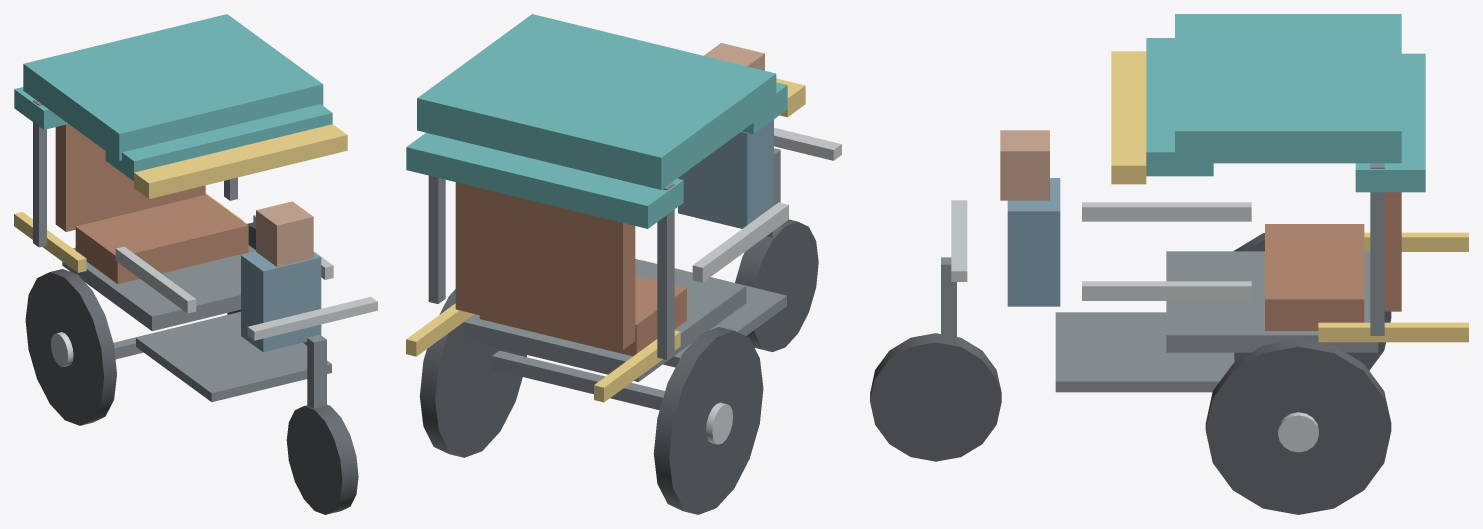
The model's file is dhaka-rickshaw.gltf.
3 renders of one model, left to right at view 1: azimuth 30°, elevation 25°; view 2: azimuth 150°, elevation 25°; view 3: azimuth 270°, elevation 25°, orthographic. The views are drawn at different scales.
Visible parts, largest first — view 1: canopy-summit, spoked-rear-wheel--1, passenger-cushion, leg-space, backrest, canopy-trim, passenger-platform, front-wheel, driver-torso, canopy-front, driver-head, handlebar (+7 smaller); view 2: canopy-summit, backrest, spoked-rear-wheel--1, canopy-rear, spoked-rear-wheel-1, passenger-platform, driver-torso, front-wheel, rear-axle, passenger-cushion, canopy-side-post--1, side-handhold--1 (+9 smaller); view 3: canopy-summit, spoked-rear-wheel-1, front-wheel, leg-space, passenger-cushion, passenger-platform, driver-torso, canopy-trim, canopy-rear, canopy-front, driver-head, side-handhold--1 (+9 smaller).
Part boxes in pixels (bbox=[...]): canopy-summit: bbox=[23, 14, 323, 160]; spoked-rear-wheel--1: bbox=[25, 269, 116, 425]; passenger-cushion: bbox=[75, 194, 248, 283]; leg-space: bbox=[136, 312, 331, 401]; backrest: bbox=[55, 124, 205, 231]; canopy-trim: bbox=[134, 124, 347, 198]; passenger-platform: bbox=[62, 245, 255, 331]; front-wheel: bbox=[286, 404, 358, 514]; driver-torso: bbox=[241, 251, 321, 352]; canopy-front: bbox=[105, 104, 332, 180]; driver-head: bbox=[256, 201, 313, 266]; handlebar: bbox=[247, 296, 377, 340]; canopy-summit: bbox=[417, 14, 776, 189]; backrest: bbox=[455, 182, 635, 349]; spoked-rear-wheel--1: bbox=[653, 327, 763, 514]; canopy-rear: bbox=[406, 132, 683, 228]; spoked-rear-wheel-1: bbox=[419, 289, 526, 457]; passenger-platform: bbox=[463, 259, 746, 381]; driver-torso: bbox=[678, 119, 773, 228]; front-wheel: bbox=[735, 219, 818, 351]; rear-axle: bbox=[492, 350, 664, 410]; passenger-cushion: bbox=[479, 275, 686, 356]; canopy-side-post--1: bbox=[657, 183, 674, 359]; side-handhold--1: bbox=[692, 202, 788, 282]; canopy-summit: bbox=[1175, 14, 1401, 163]; spoked-rear-wheel-1: bbox=[1205, 339, 1391, 514]; front-wheel: bbox=[870, 333, 1001, 461]; leg-space: bbox=[1055, 312, 1234, 392]; passenger-cushion: bbox=[1265, 224, 1364, 330]; passenger-platform: bbox=[1166, 251, 1378, 352]; driver-torso: bbox=[1007, 178, 1060, 306]; canopy-trim: bbox=[1111, 51, 1146, 184]; canopy-rear: bbox=[1355, 53, 1425, 192]; canopy-front: bbox=[1146, 38, 1213, 176]; driver-head: bbox=[1000, 130, 1049, 200]; side-handhold--1: bbox=[1082, 202, 1251, 221].
Size of the model in its own units: 2.04 by 2.9 by 4.1.
